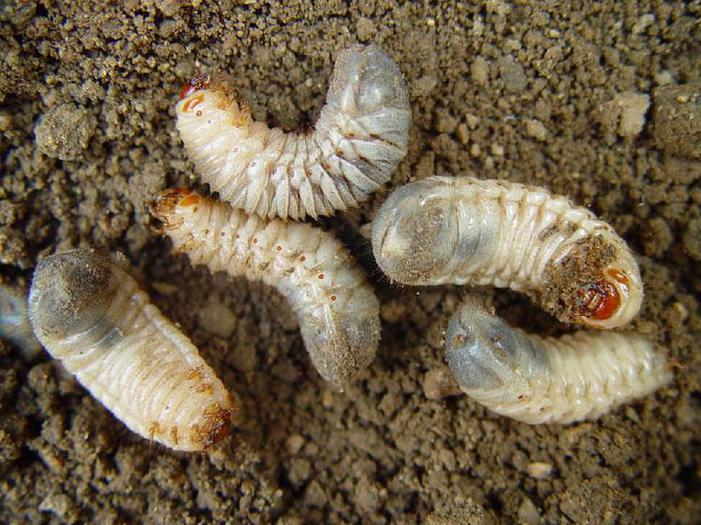grub: (12, 246, 238, 460)
